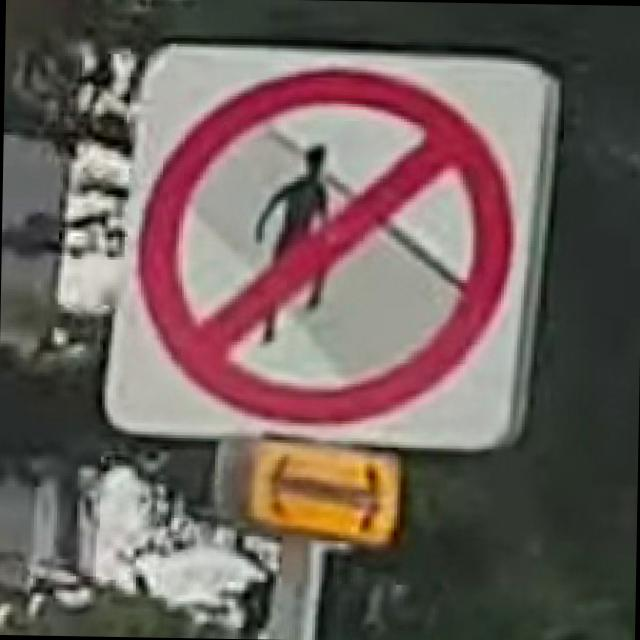nojaywalking_sign: (95, 33, 562, 456)
